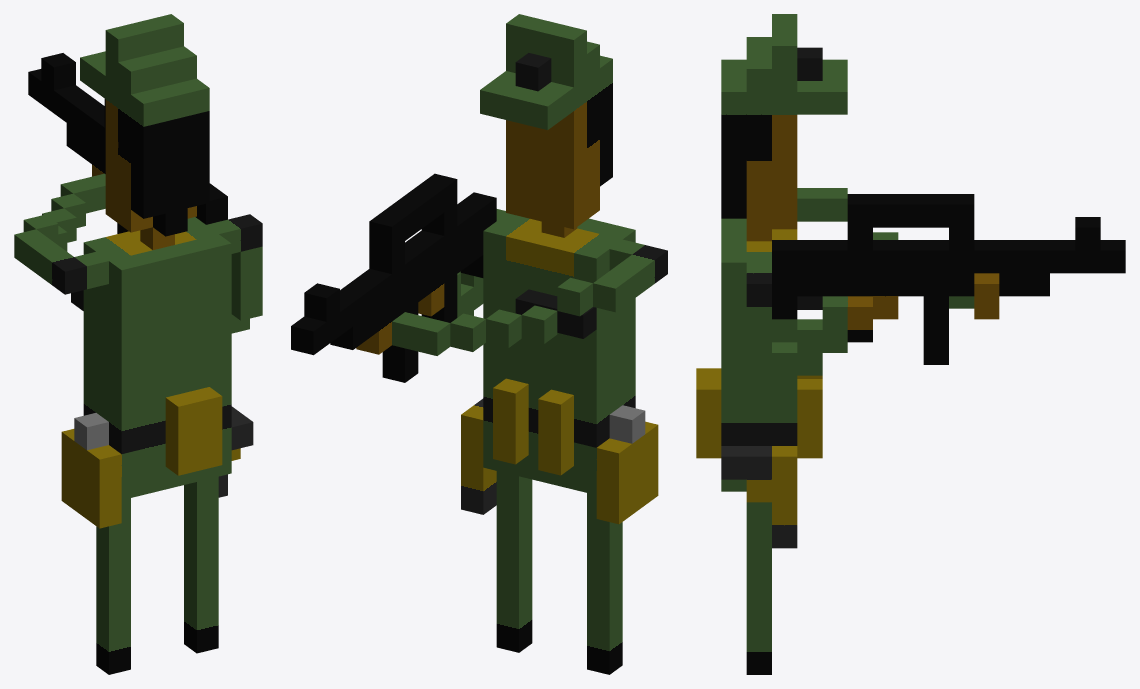
Rendered from Soldier1.dae.
The picture shows the model from 3 angles, left to right: view 1: azimuth 30°, elevation 25°; view 2: azimuth 150°, elevation 25°; view 3: azimuth 270°, elevation 25°; orthographic projection. The views are drawn at different scales.
Parts seen in each view (by area): view 1: Person1; view 2: Person1; view 3: Person1.
Boxes of the visible parts, x1,y1,x2,y2 form: Person1: (14,14,262,674); Person1: (291,14,667,674); Person1: (696,14,1125,674).
Size of the model in its own units: 9 by 27 by 17.
1 material, 1 textured.
